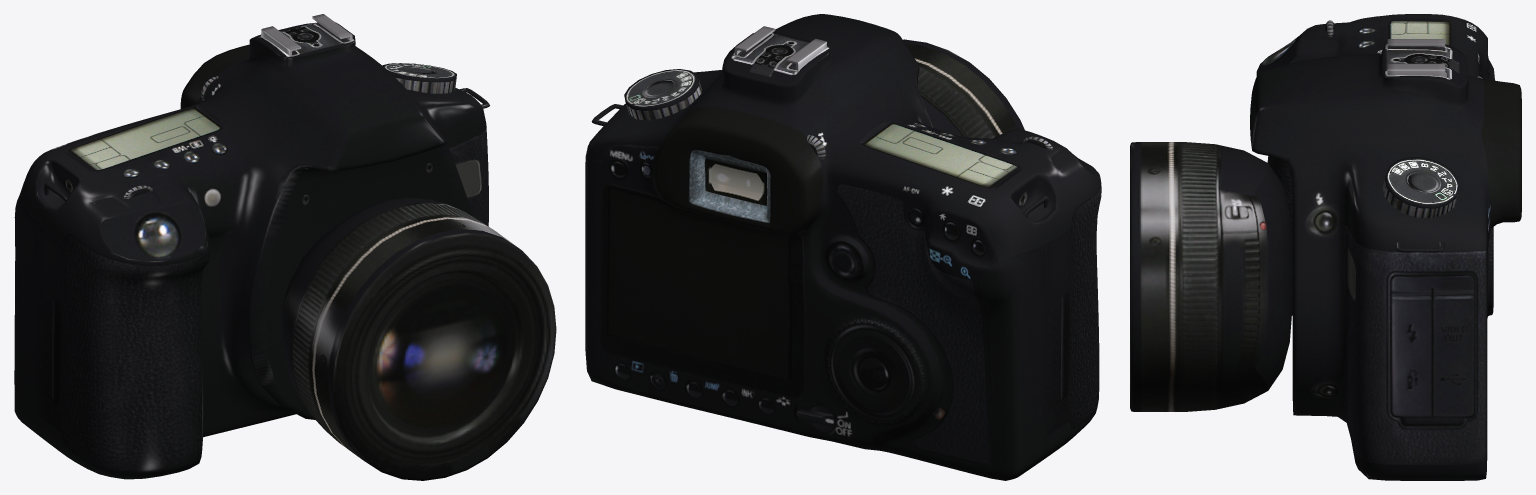
File: asset.glb
3 renders of one model, left to right at view 1: azimuth 30°, elevation 25°; view 2: azimuth 150°, elevation 25°; view 3: azimuth 270°, elevation 25°, orthographic.
Parts seen in each view (by area): view 1: Camera_Device.1; view 2: Camera_Device.1; view 3: Camera_Device.1.
Part boxes in pixels (x1,y1,x2,y2): Camera_Device.1: (14, 14, 556, 480); Camera_Device.1: (585, 14, 1101, 480); Camera_Device.1: (1130, 14, 1521, 480).
Size of the model in its own units: 33.65 by 25.56 by 25.54.
Materials: 1 (1 with a texture image).
